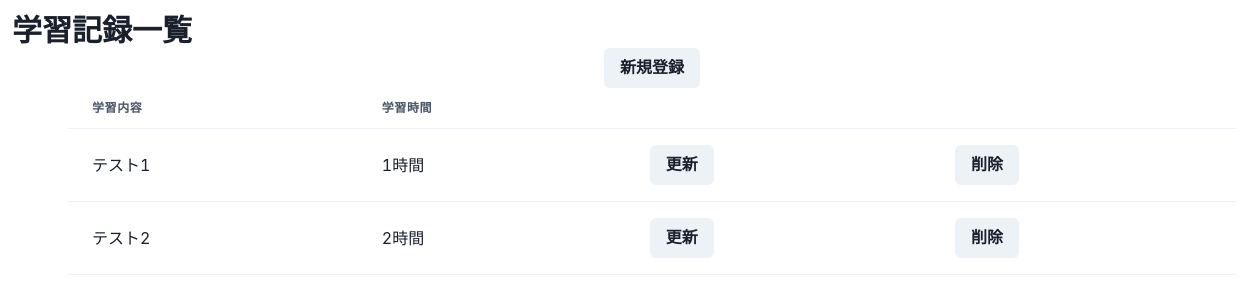
Scenario: 操作のテスト › 削除ができること
The image size is (1253, 292).
// 削除ボタンをクリック
What coordinates should you click on to do the following:
click the button with test id "delete-button_1"
I would click on:
 (987, 165)
Its box is [955,145,1019,185].
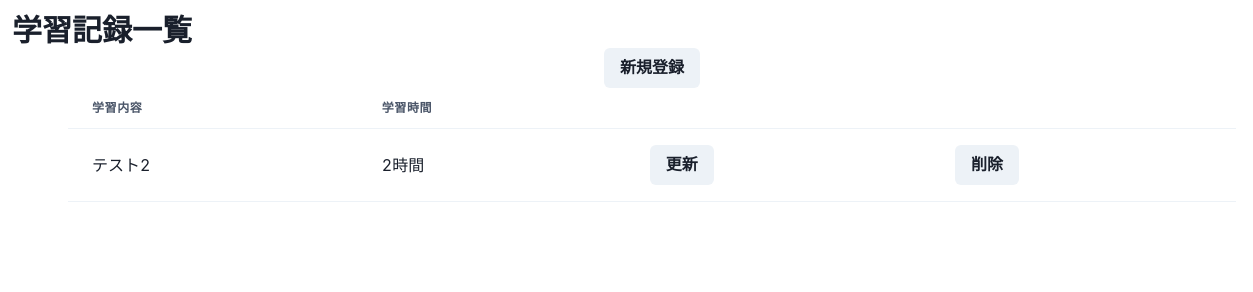
Check: the cell with test id "row-title_1" is gone
